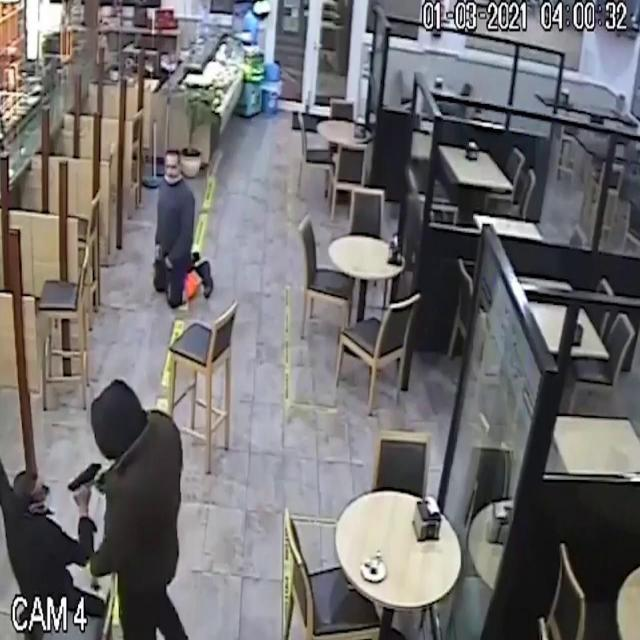weapon: (60, 452, 109, 502)
